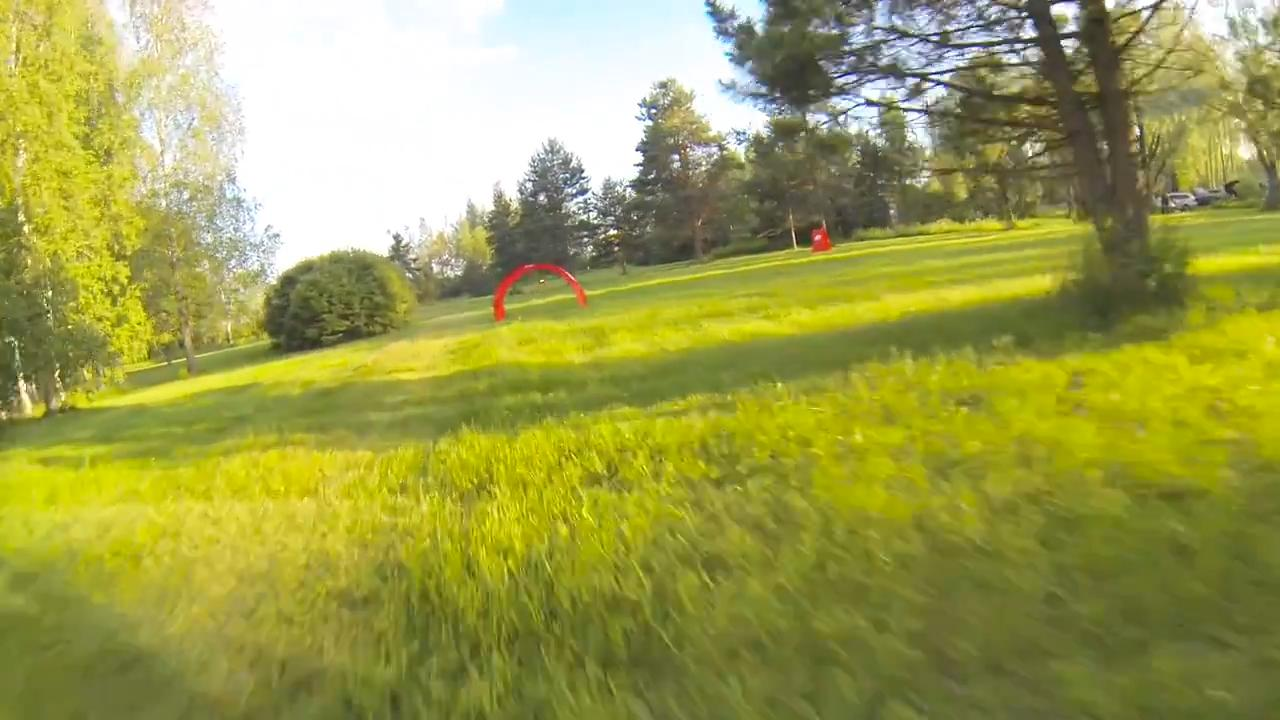gate: (489, 260, 591, 322)
